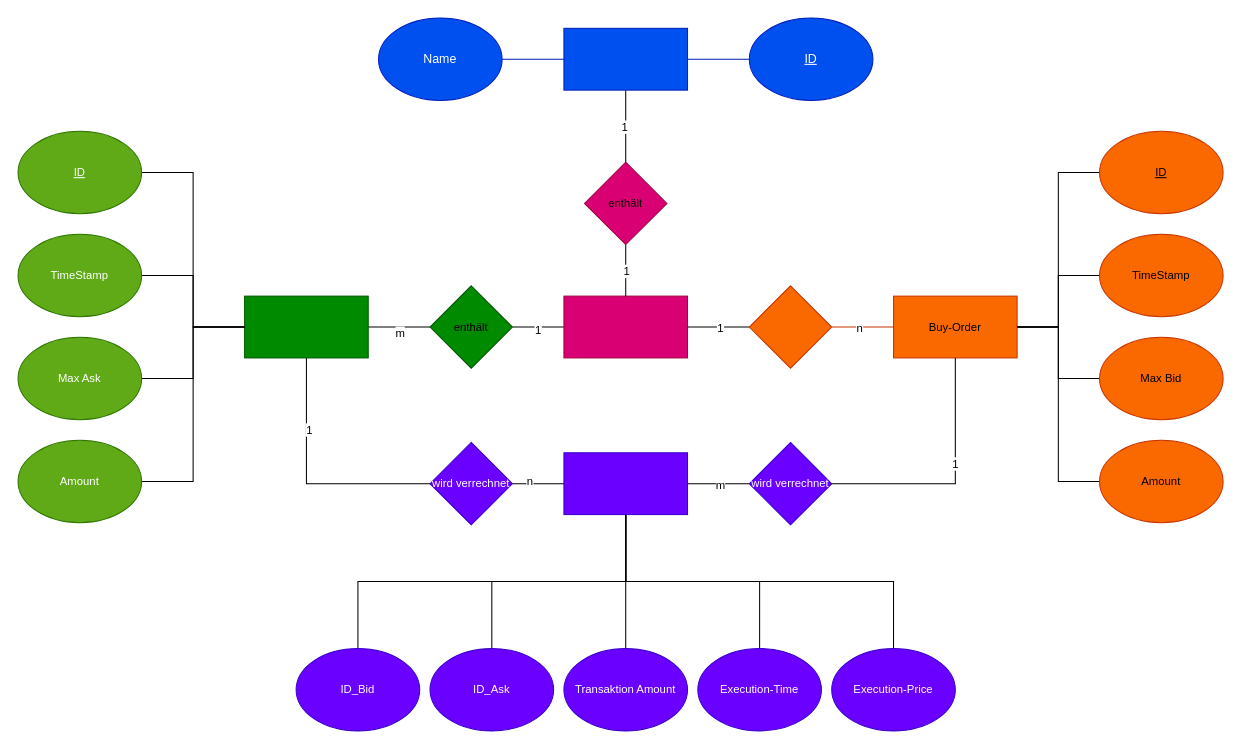
Image size: 1241x750. Some labels were removed from this diagram. Each missing label, with the box of its shape:
enthäl t: (748, 285, 832, 368)
Orderbook: (563, 295, 688, 358)
Sell-Order: (244, 295, 368, 358)
Simulation: (563, 27, 688, 90)
Transaktionen: (563, 452, 688, 515)
